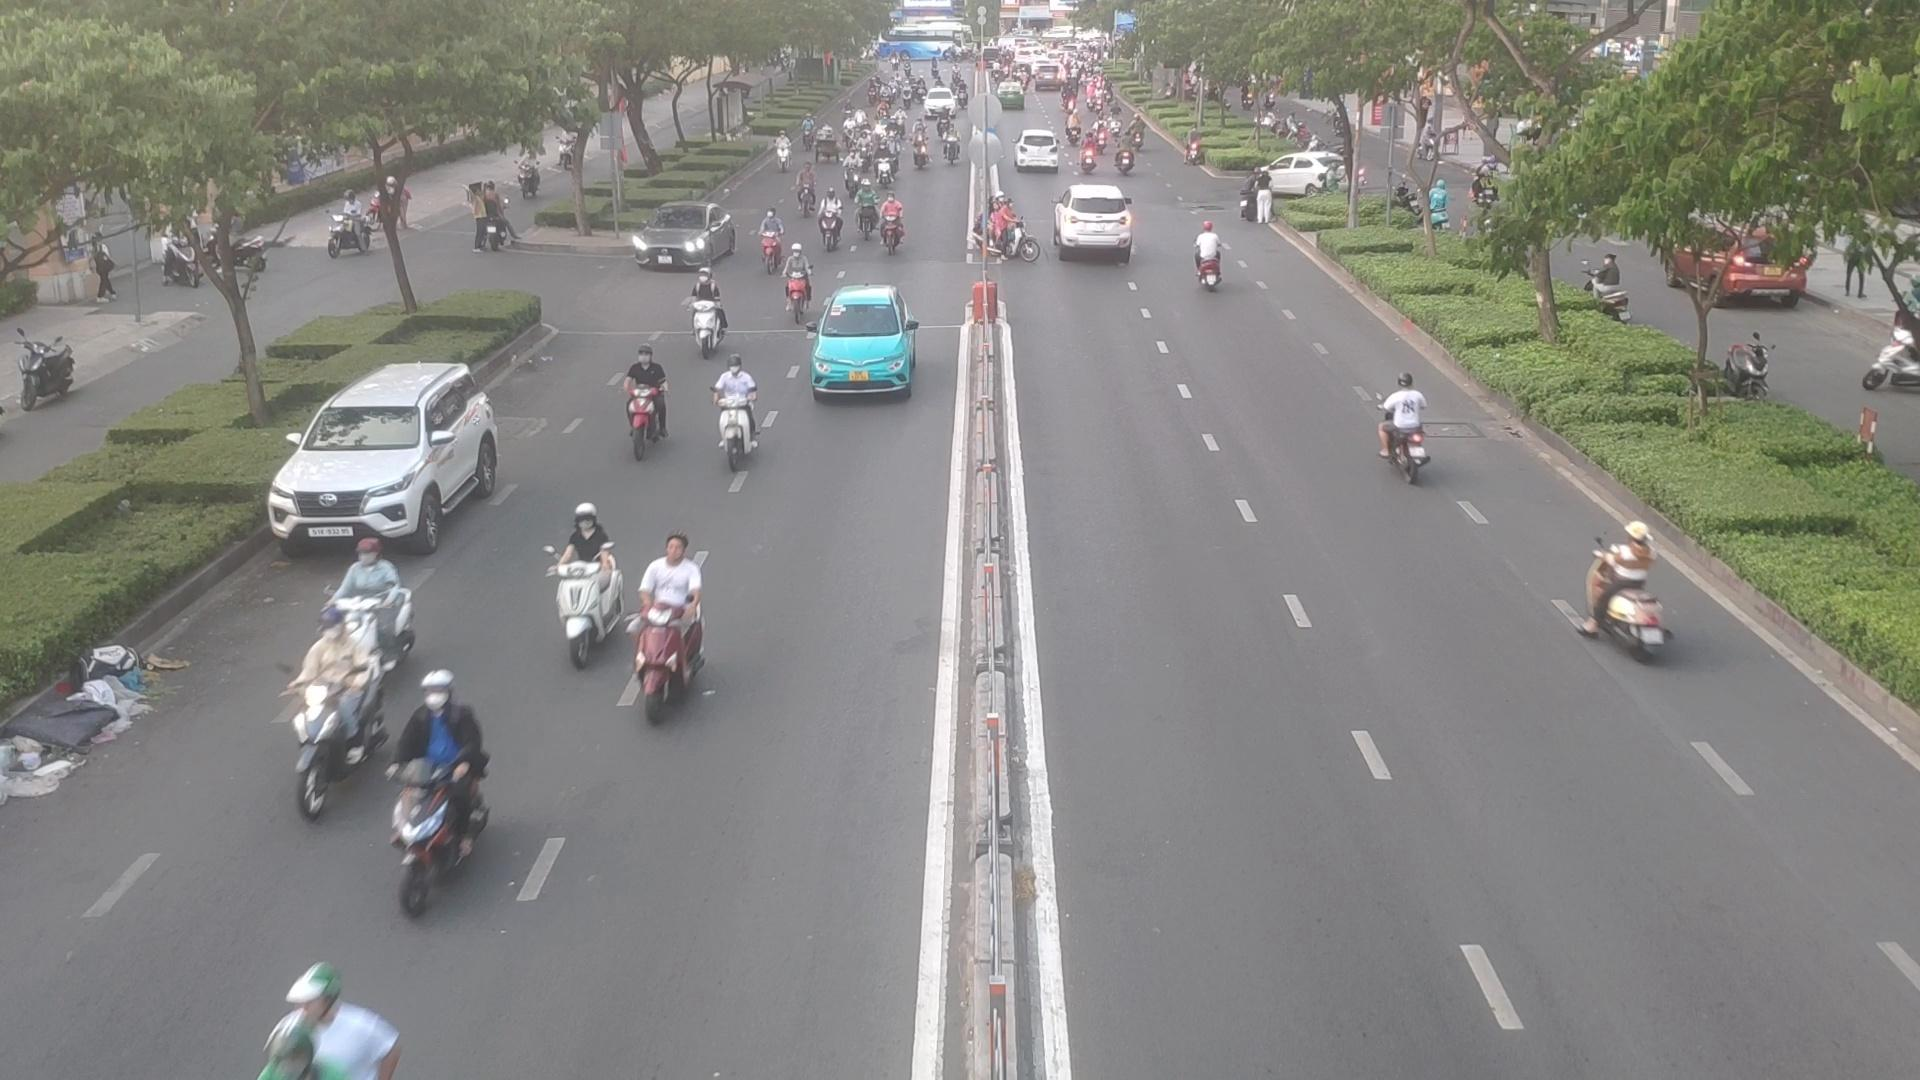car: (266, 363, 505, 556), (806, 285, 915, 396), (628, 203, 738, 272), (1056, 185, 1142, 262), (1019, 129, 1060, 175)
motorbike: (371, 661, 493, 930), (632, 524, 737, 713), (277, 607, 386, 785), (324, 527, 435, 673), (545, 518, 637, 676), (1594, 516, 1671, 662), (709, 339, 760, 472), (1374, 360, 1431, 476), (976, 200, 1044, 264), (687, 261, 727, 355), (626, 344, 661, 448), (1191, 219, 1228, 294), (782, 243, 804, 335), (877, 193, 909, 255), (753, 208, 785, 262), (822, 186, 840, 249), (856, 183, 876, 239), (798, 153, 816, 211), (1113, 135, 1135, 174), (840, 152, 858, 196), (876, 142, 891, 186), (771, 131, 789, 170), (914, 129, 930, 170), (1079, 135, 1095, 174), (887, 136, 901, 171), (856, 133, 869, 167)
